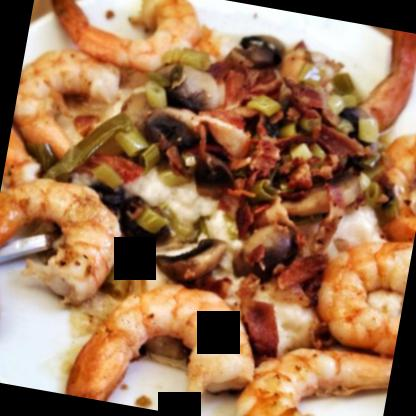shrimp: (68, 264, 265, 415), (0, 171, 127, 357), (7, 36, 122, 166), (301, 227, 412, 357), (236, 326, 394, 415), (38, 0, 203, 82), (366, 124, 415, 265)
